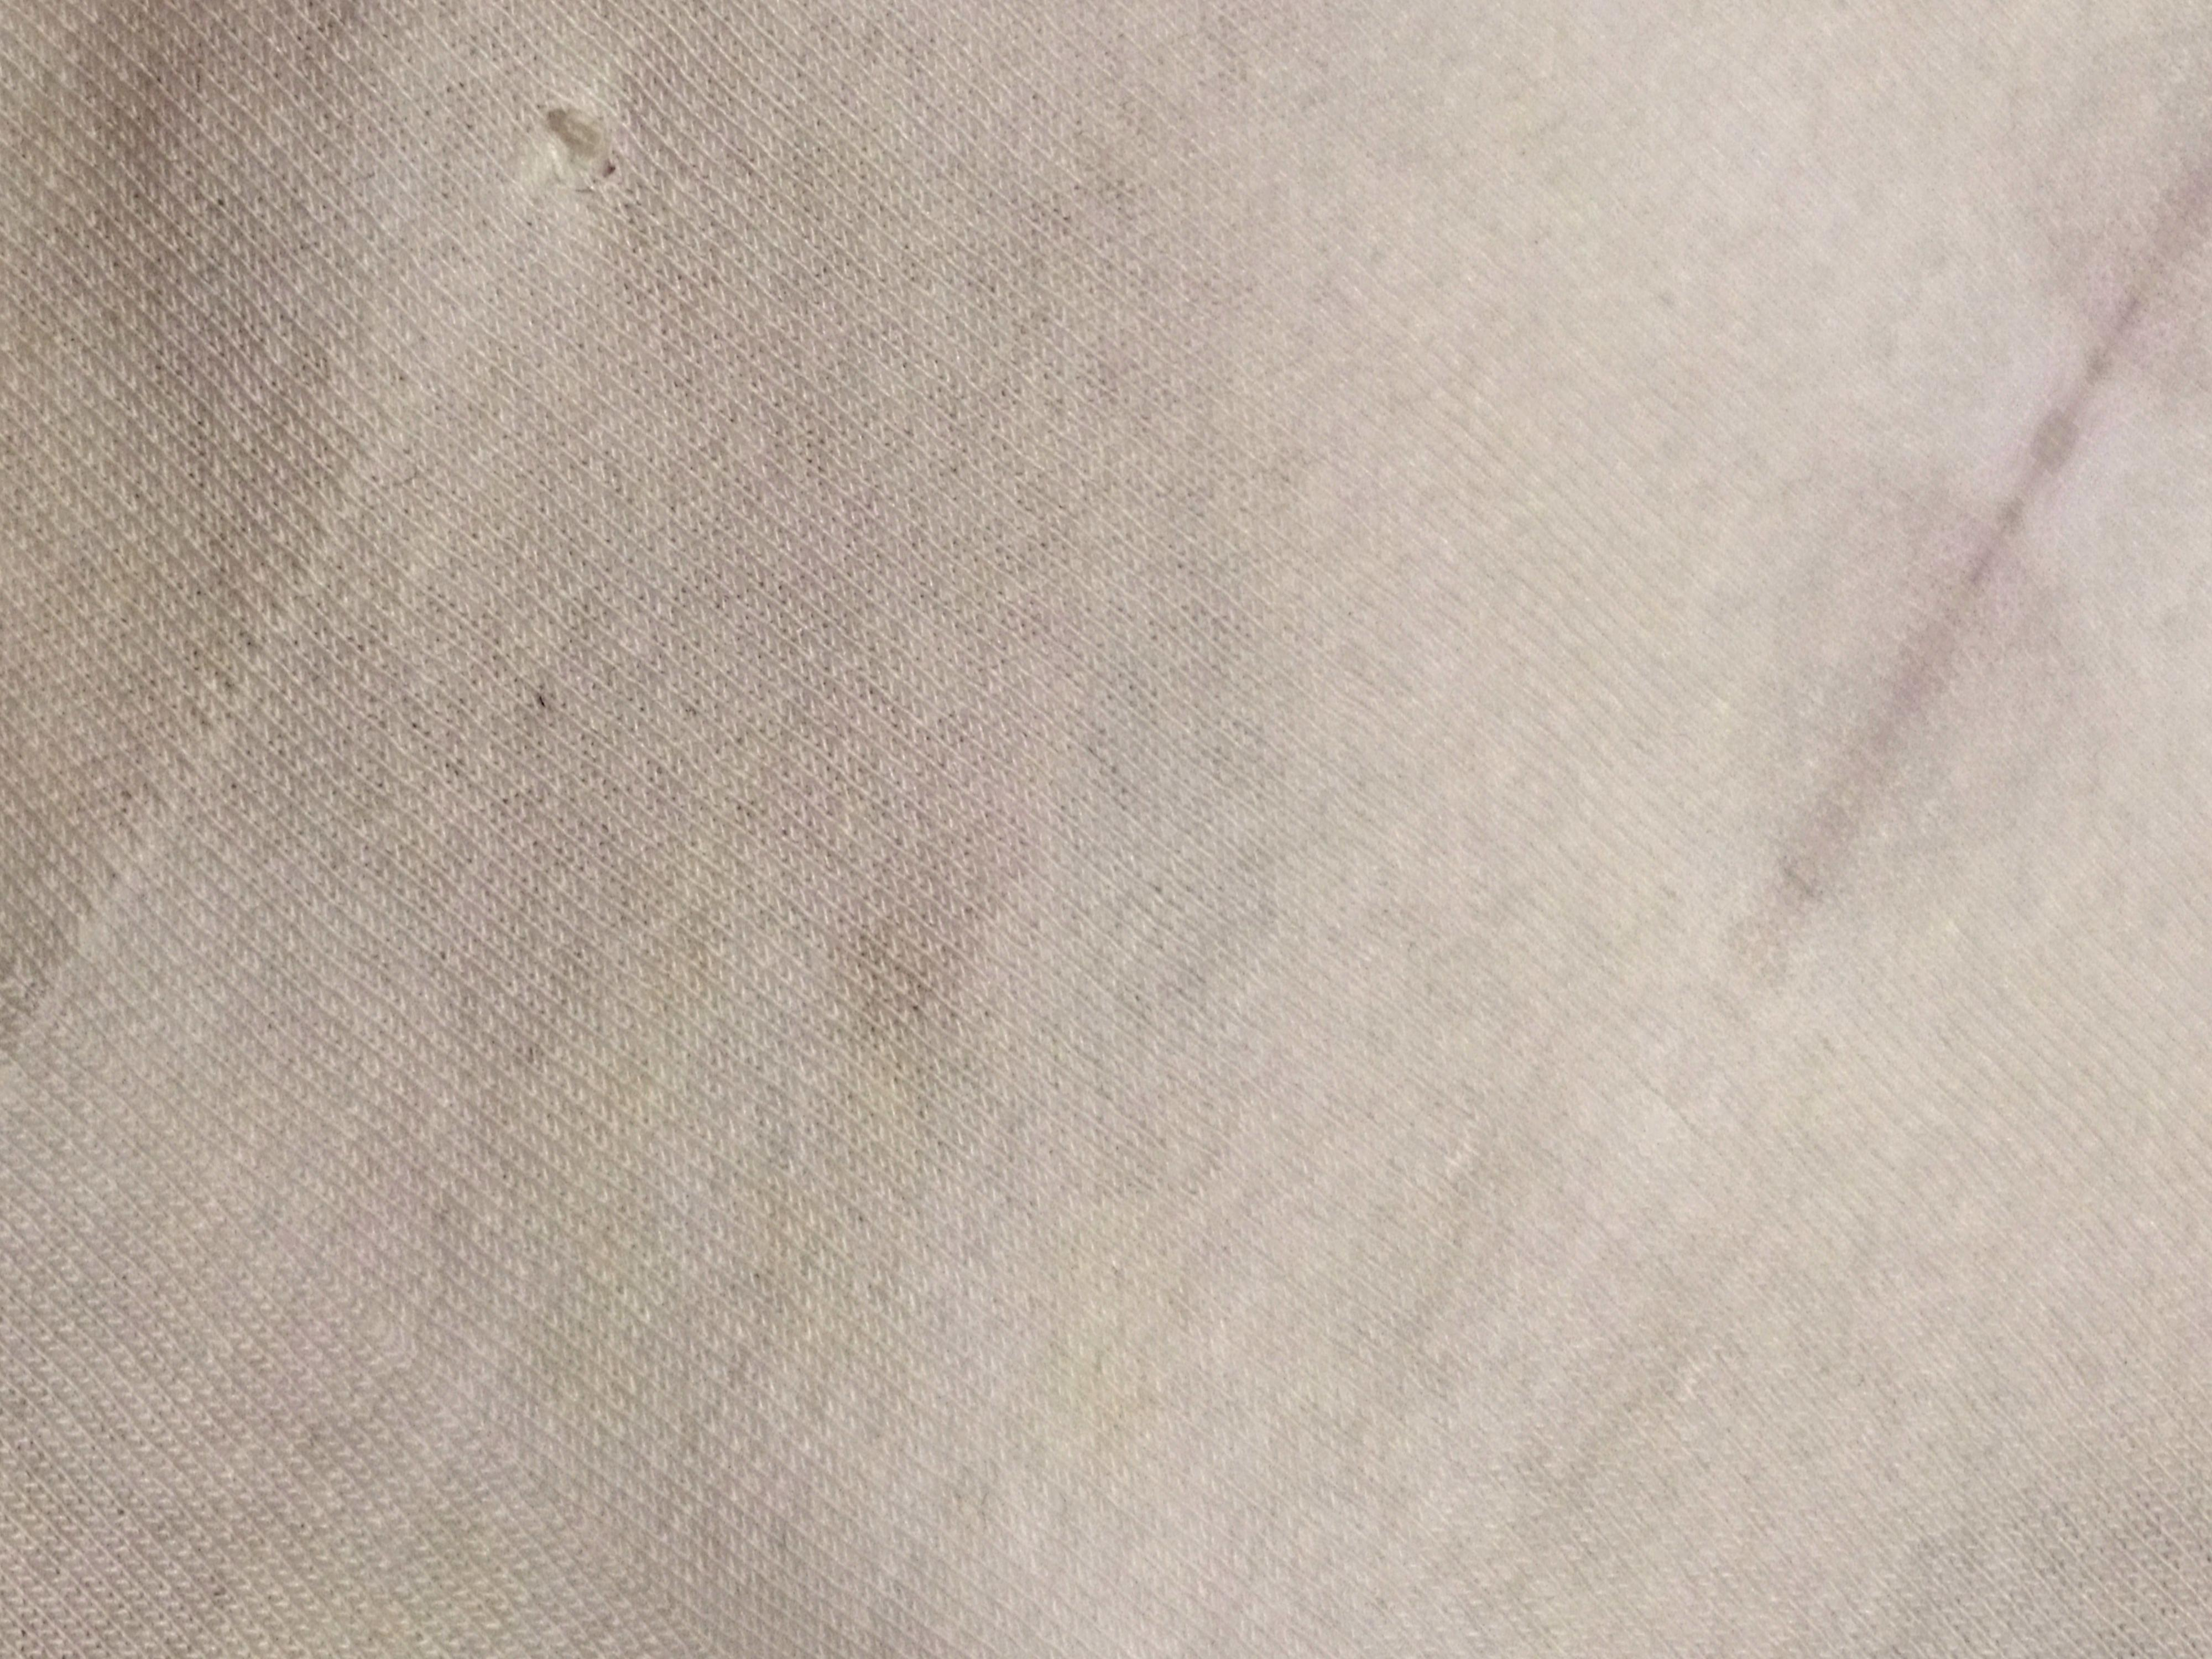knot: (517, 78, 657, 213)
